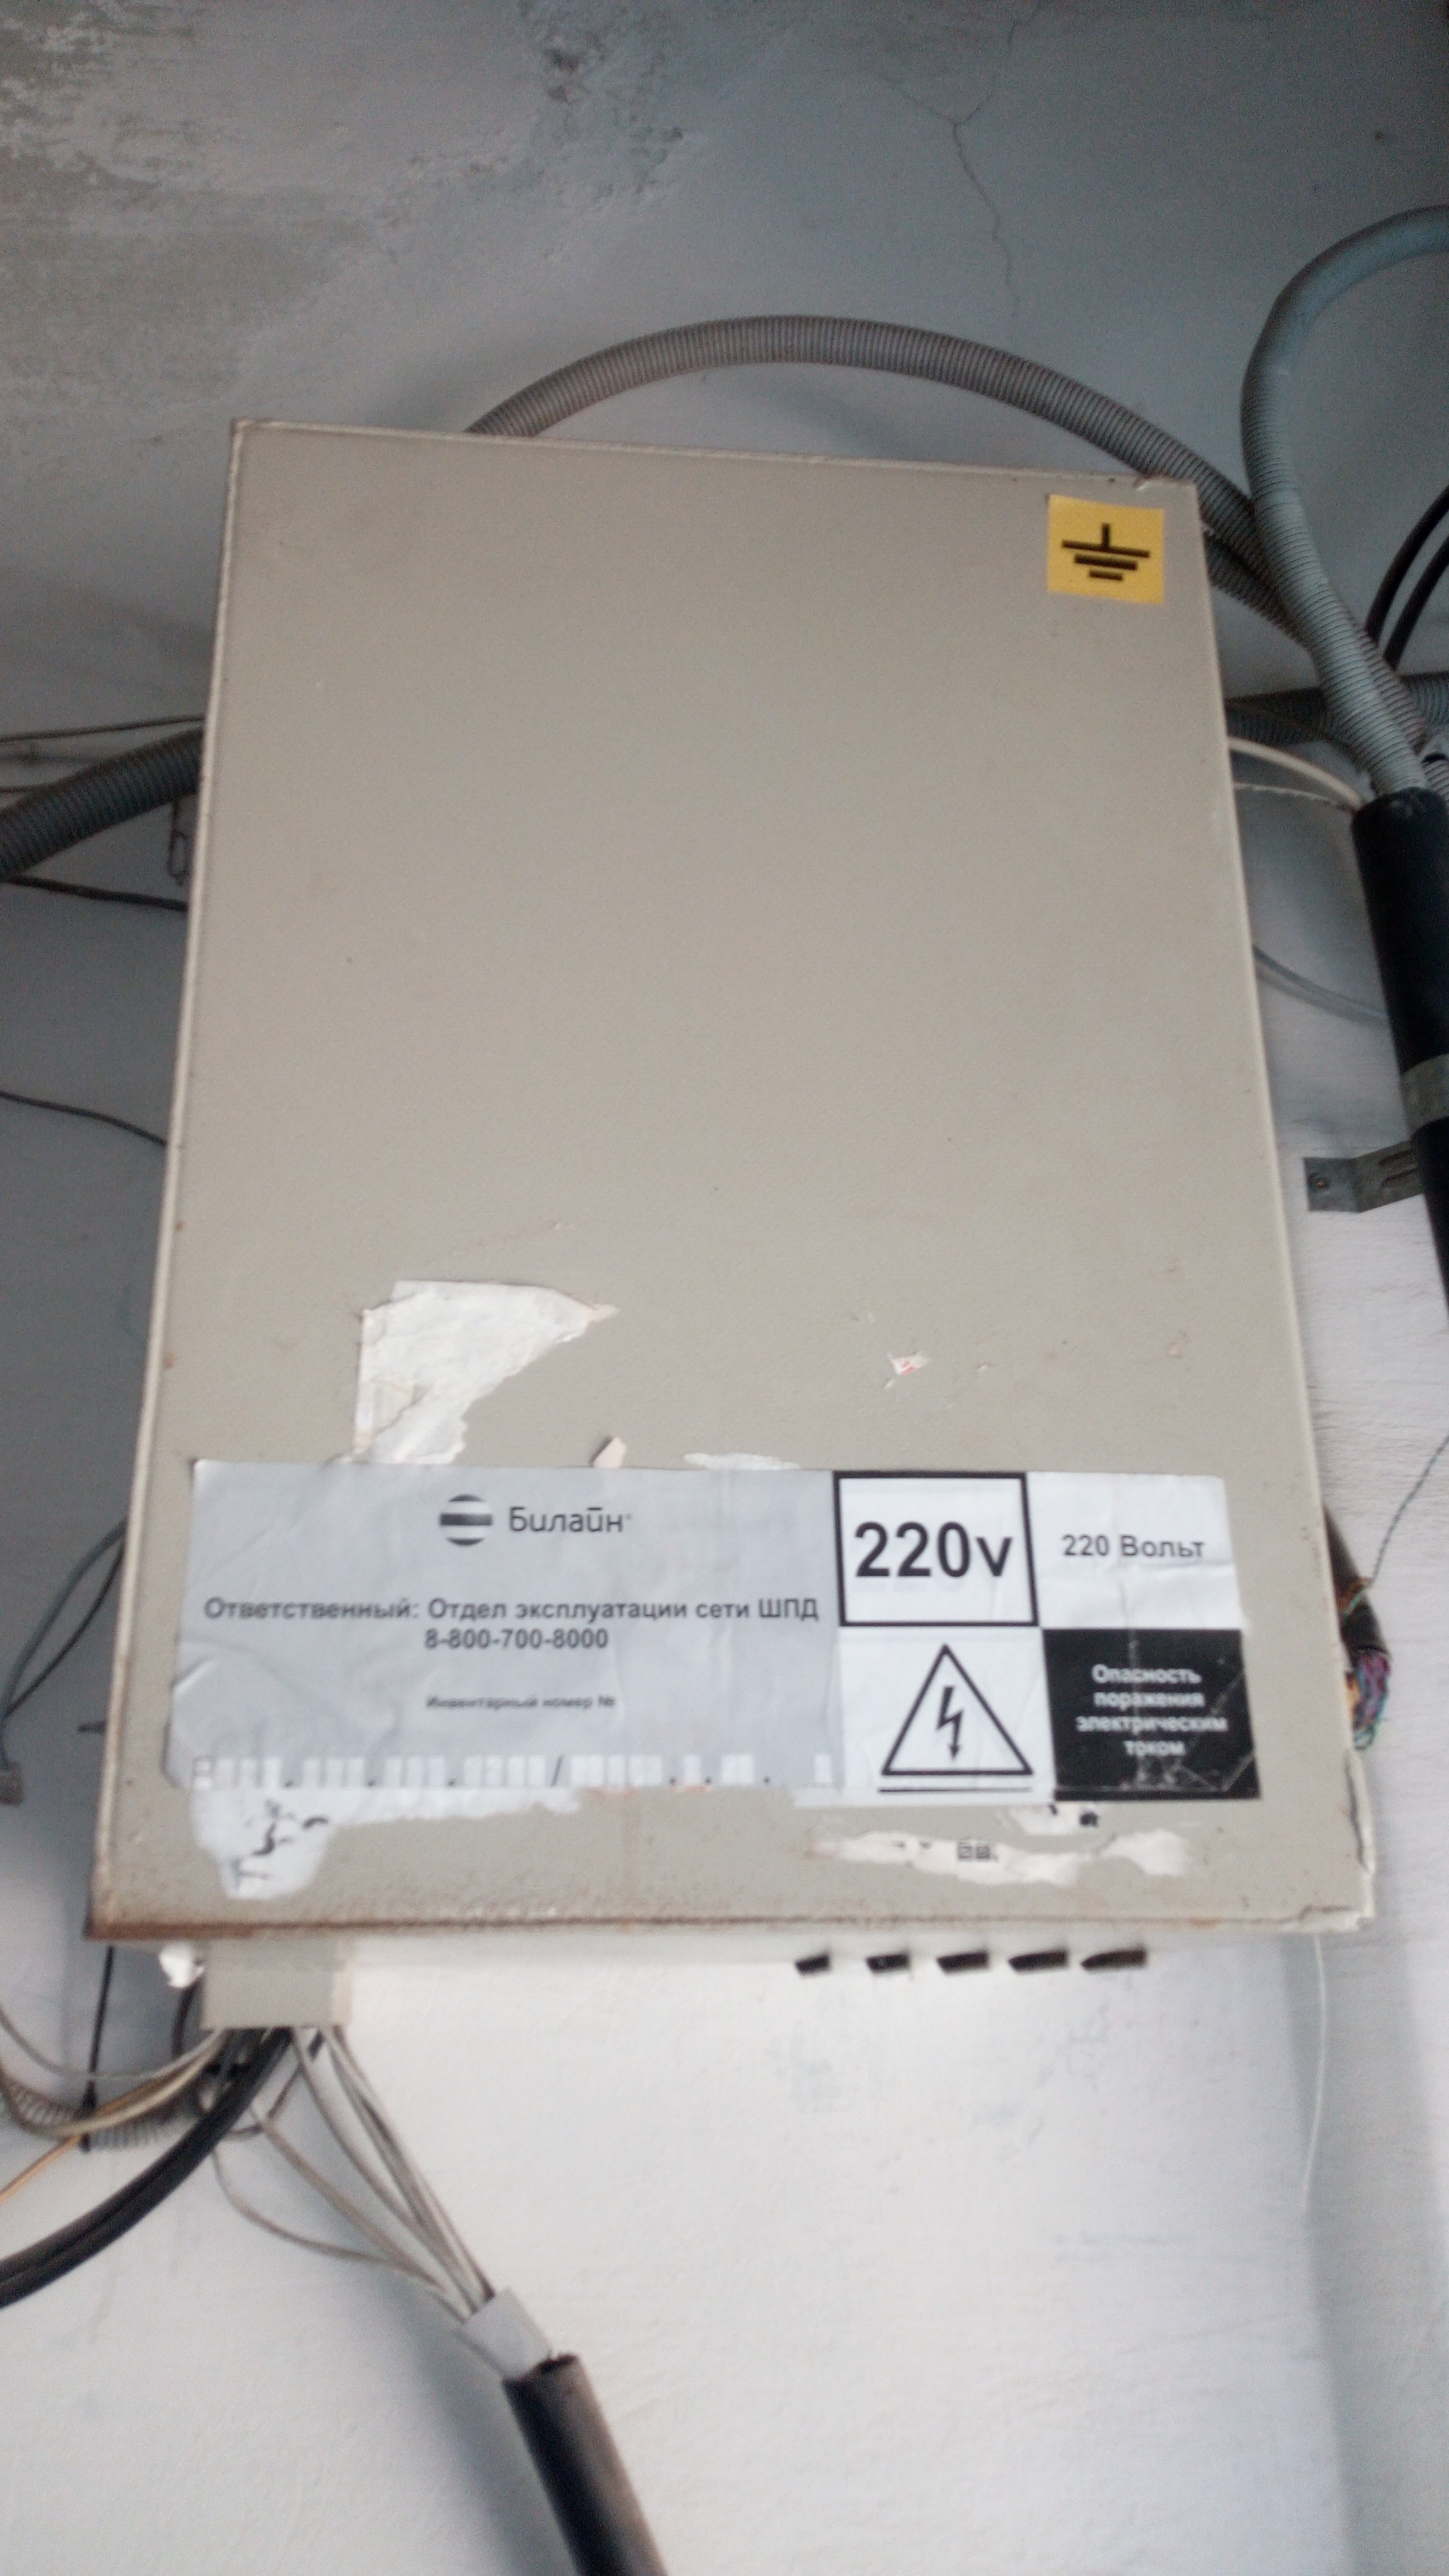sv-5: (58, 396, 1394, 1982)
